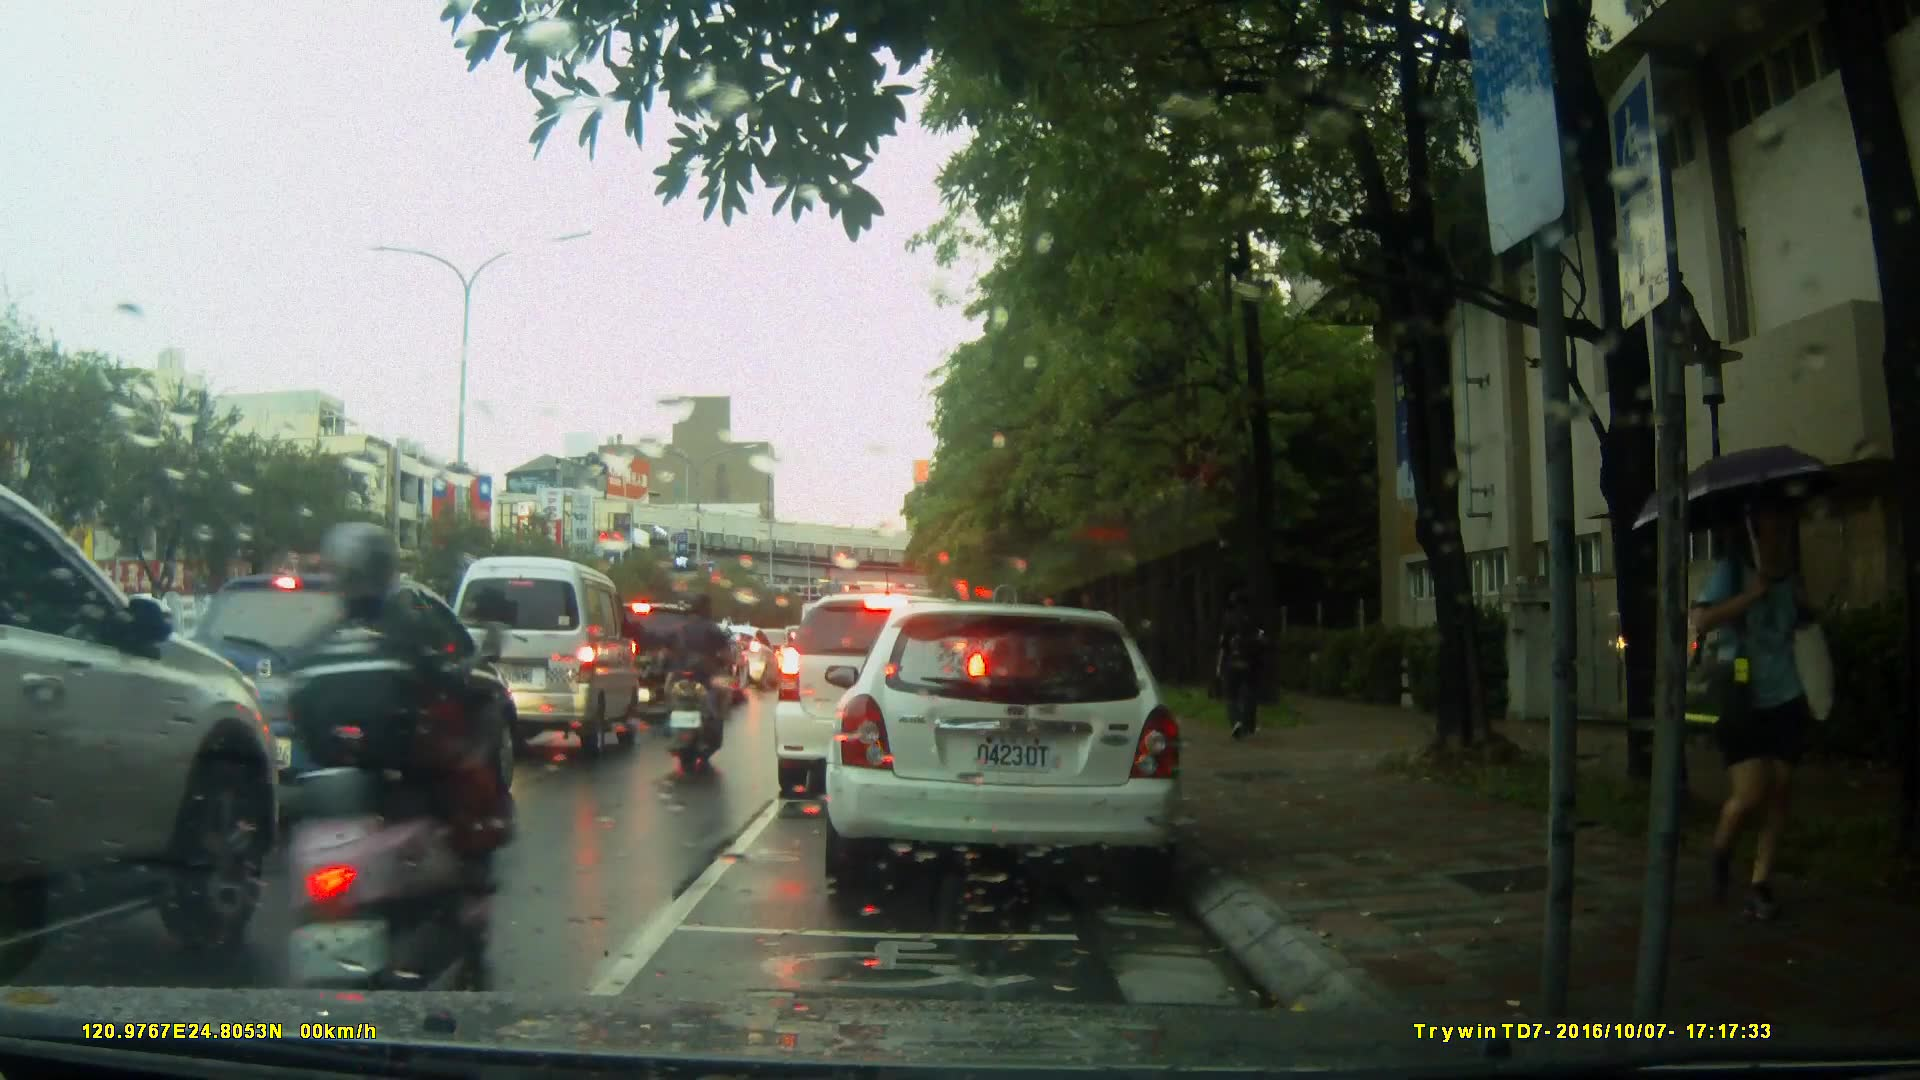pedestrian: (1703, 476, 1841, 934), (1208, 585, 1278, 753)
rider: (280, 524, 511, 1020), (660, 586, 734, 784)
vehicle: (1, 449, 277, 988), (815, 593, 1204, 909), (148, 571, 526, 833), (770, 590, 994, 802), (442, 554, 644, 763), (584, 602, 735, 724)
